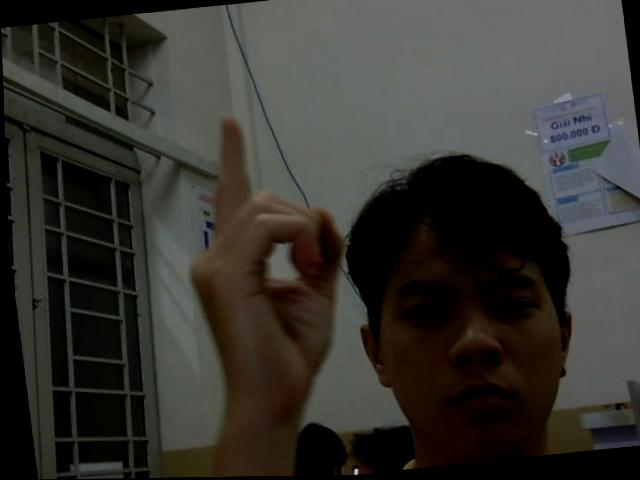D: (168, 104, 359, 420)
